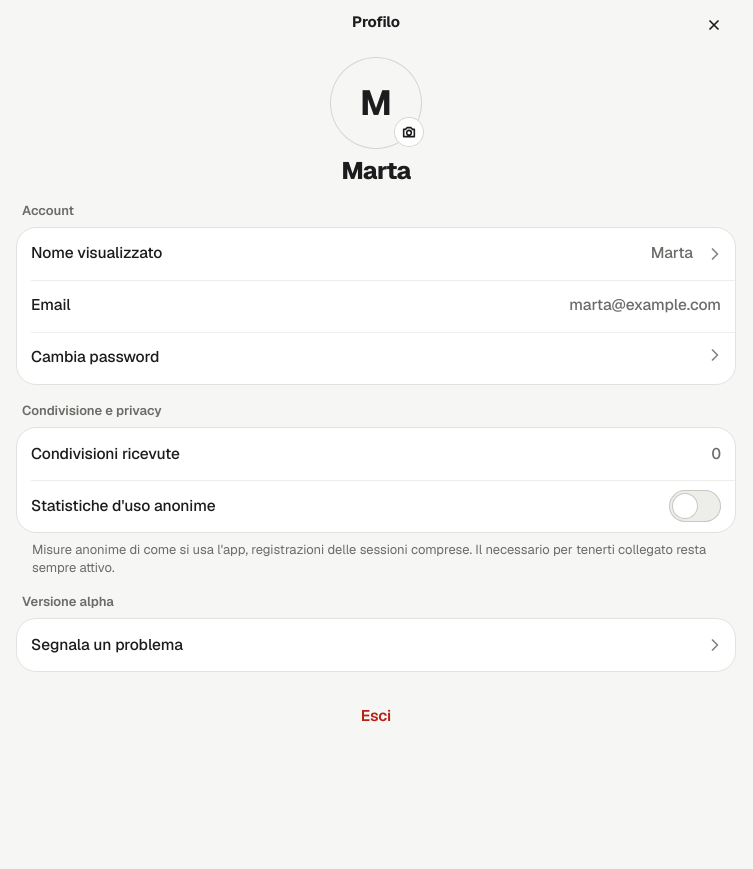
Profilo — nome › la riga mostra il nome e si apre (disclosure): il fuoco va nel campo
Click the button "Nome visualizzato Marta". click: click(97, 253)
box: [17, 228, 735, 280]
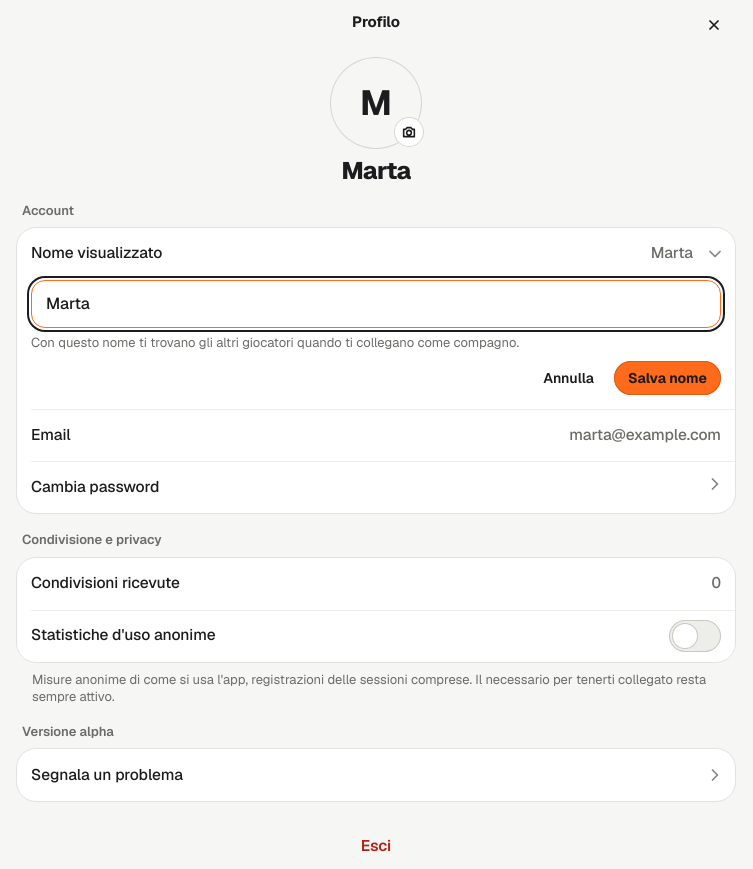
Now the button "Nome visualizzato Marta" is expanded, box [17, 228, 735, 280]
Now the field named "Nome visualizzato" holds "Marta", box [31, 280, 721, 328]
